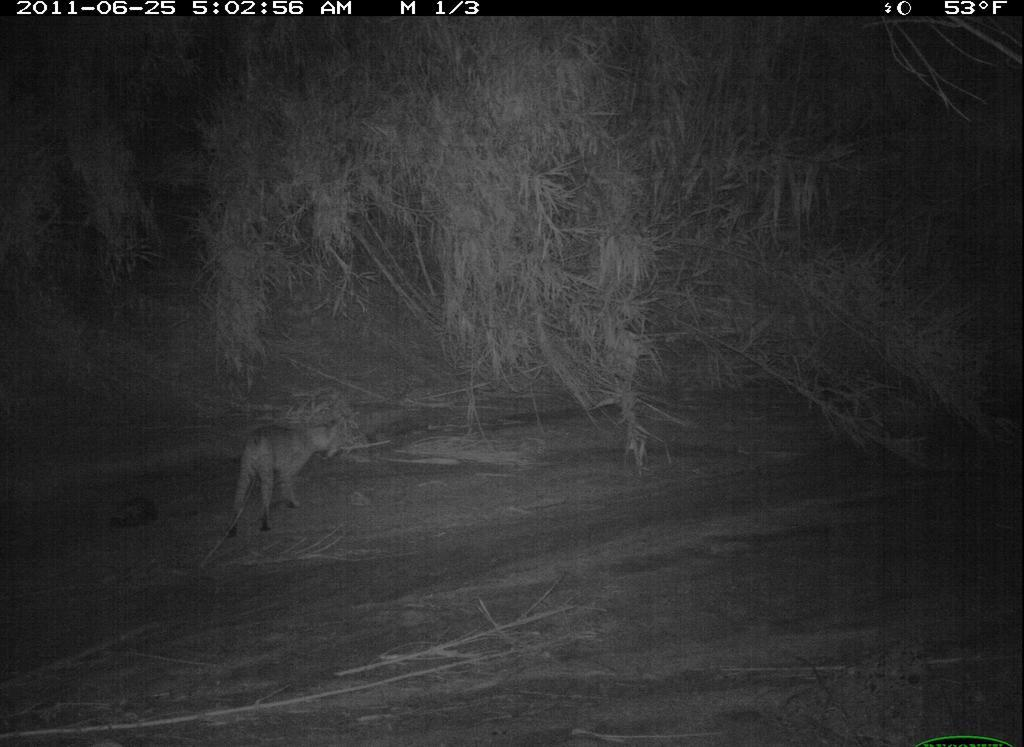bobcat: (223, 418, 349, 545)
